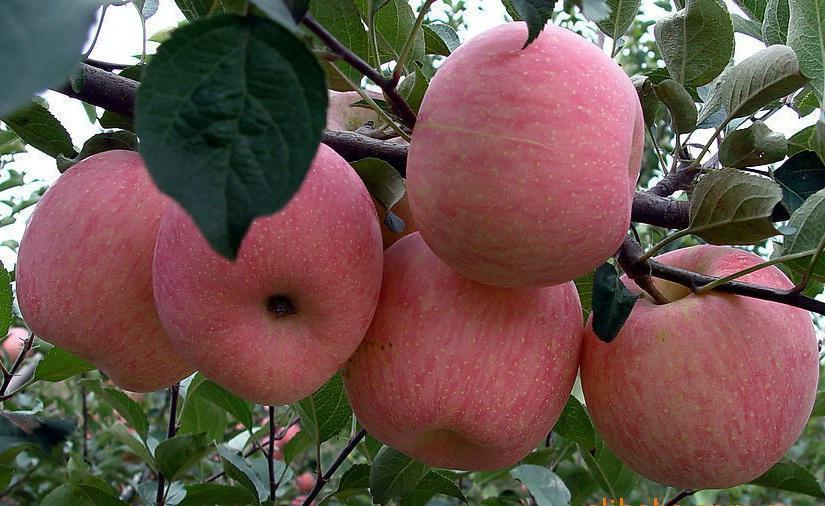apple: (404, 20, 645, 288), (151, 136, 386, 410), (338, 226, 586, 470), (583, 244, 824, 488), (11, 149, 202, 390)
